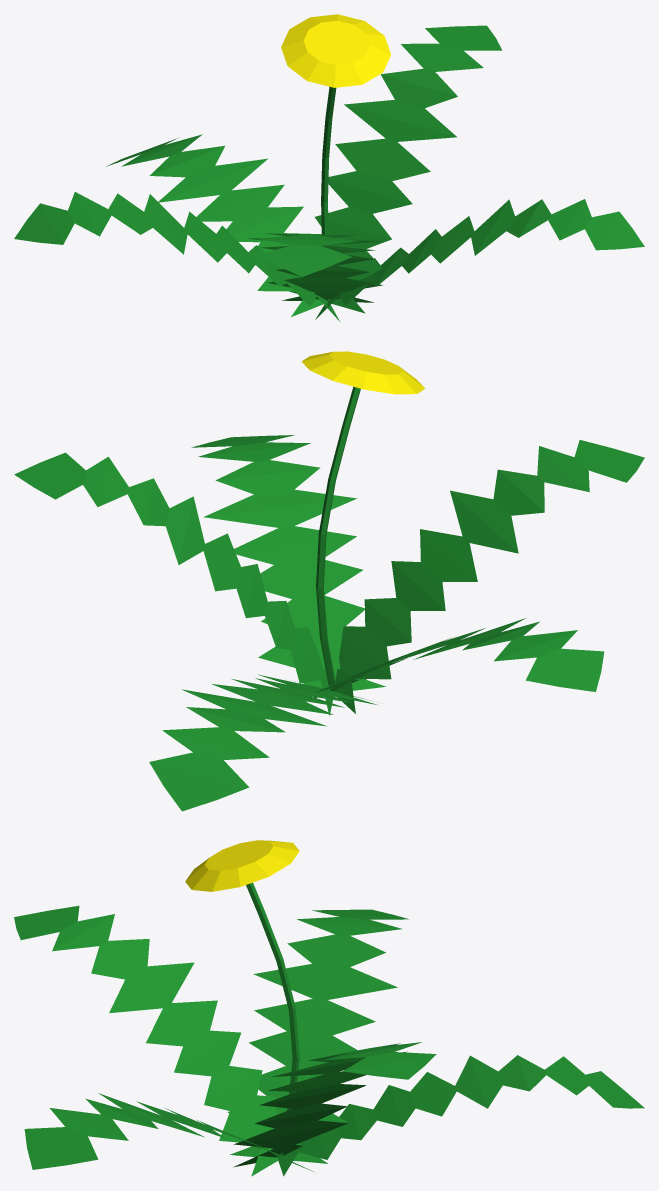
The model's file is dandelion.fbx.
The picture shows the model from 3 angles, top to bottom: view 1: azimuth 30°, elevation 25°; view 2: azimuth 150°, elevation 25°; view 3: azimuth 270°, elevation 25°; orthographic projection. The views are drawn at different scales.
Parts seen in each view (by area): view 1: Leaf.002, Leaf.003, Leaf.005, Leaf.001, Head, Leaf.004, Stalk; view 2: Leaf.004, Leaf.001, Leaf.002, Leaf.003, Leaf.005, Head, Stalk; view 3: Leaf.004, Leaf.005, Leaf.003, Leaf.002, Leaf.001, Head, Stalk.
Part boxes in pixels (x1,y1,x2,y2): Leaf.002: (289,25,502,313); Leaf.003: (106,134,323,316); Leaf.005: (14,192,340,322); Leaf.001: (315,199,644,319); Head: (281,14,390,87); Leaf.004: (248,233,382,302); Stalk: (321,86,336,300); Leaf.004: (334,440,644,713); Leaf.001: (191,435,385,690); Leaf.002: (14,452,332,715); Leaf.003: (149,674,378,811); Leaf.005: (305,618,604,701); Head: (301,351,425,394); Stalk: (316,386,360,690); Leaf.004: (14,905,278,1176); Leaf.005: (227,909,408,1163); Leaf.003: (278,1055,644,1176); Leaf.002: (233,1042,436,1167); Leaf.001: (24,1093,313,1171); Head: (185,840,299,891); Stalk: (246,882,299,1157).
Size of the model in its own units: 153 by 85.88 by 158.
2 materials, 2 textured.
